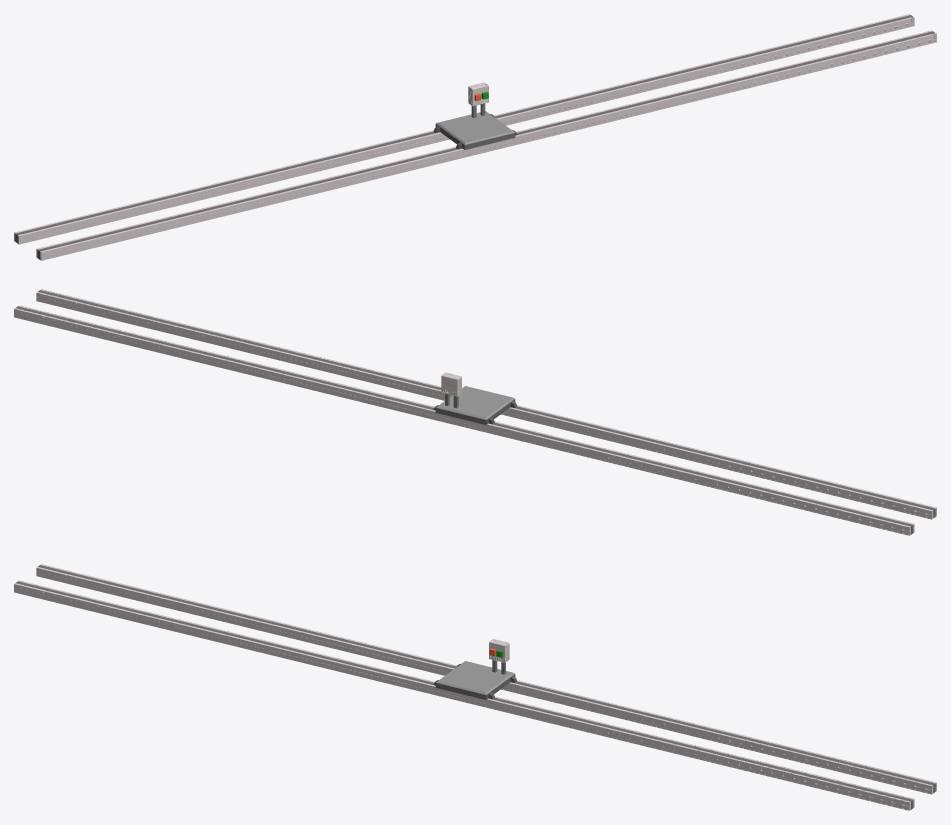
Rendered from rail.fbx.
3 views of the same model, one above another, from view 1: azimuth 30°, elevation 25°; view 2: azimuth 150°, elevation 25°; view 3: azimuth 330°, elevation 25° (orthographic).
Visible parts, largest first — view 1: rail, rail_platform; view 2: rail, rail_platform; view 3: rail, rail_platform.
Part boxes in pixels (<box>): rail: <box>14,14,936,260</box>; rail_platform: <box>433,82,517,149</box>; rail: <box>14,289,936,535</box>; rail_platform: <box>433,372,517,424</box>; rail: <box>14,564,936,810</box>; rail_platform: <box>433,639,517,699</box>.
Size of the model in its own units: 2000 by 96.39 by 113.
